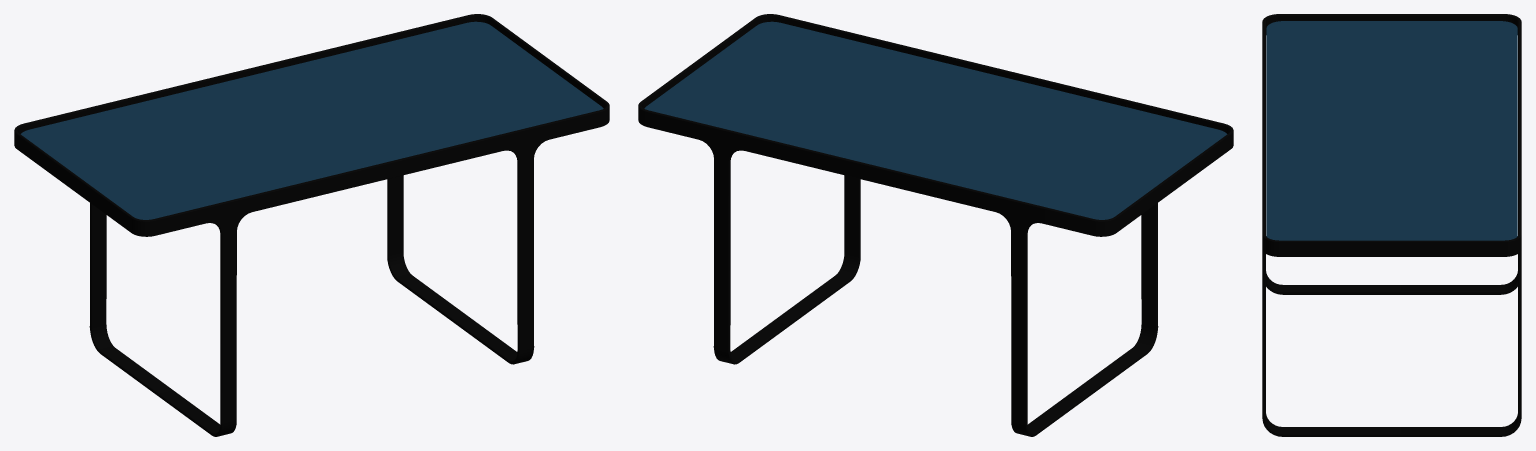
File: naughtone_trace_black_fbx_upY.fbx
The picture shows the model from 3 angles, left to right: view 1: azimuth 30°, elevation 25°; view 2: azimuth 150°, elevation 25°; view 3: azimuth 270°, elevation 25°; orthographic projection.
Parts seen in each view (by area): view 1: naughtone_trace_black; view 2: naughtone_trace_black; view 3: naughtone_trace_black.
Boxes of the visible parts, bbox=[...] form: naughtone_trace_black: bbox=[14, 14, 609, 436]; naughtone_trace_black: bbox=[638, 14, 1233, 436]; naughtone_trace_black: bbox=[1262, 14, 1521, 436].
Size of the model in its own units: 156 by 75 by 75.
